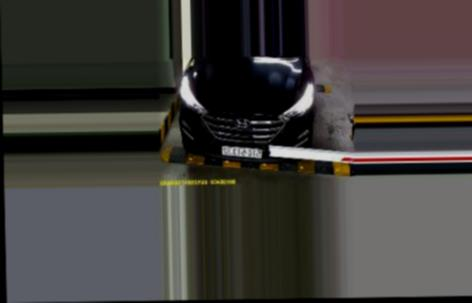License_Plate: (219, 142, 262, 162)
